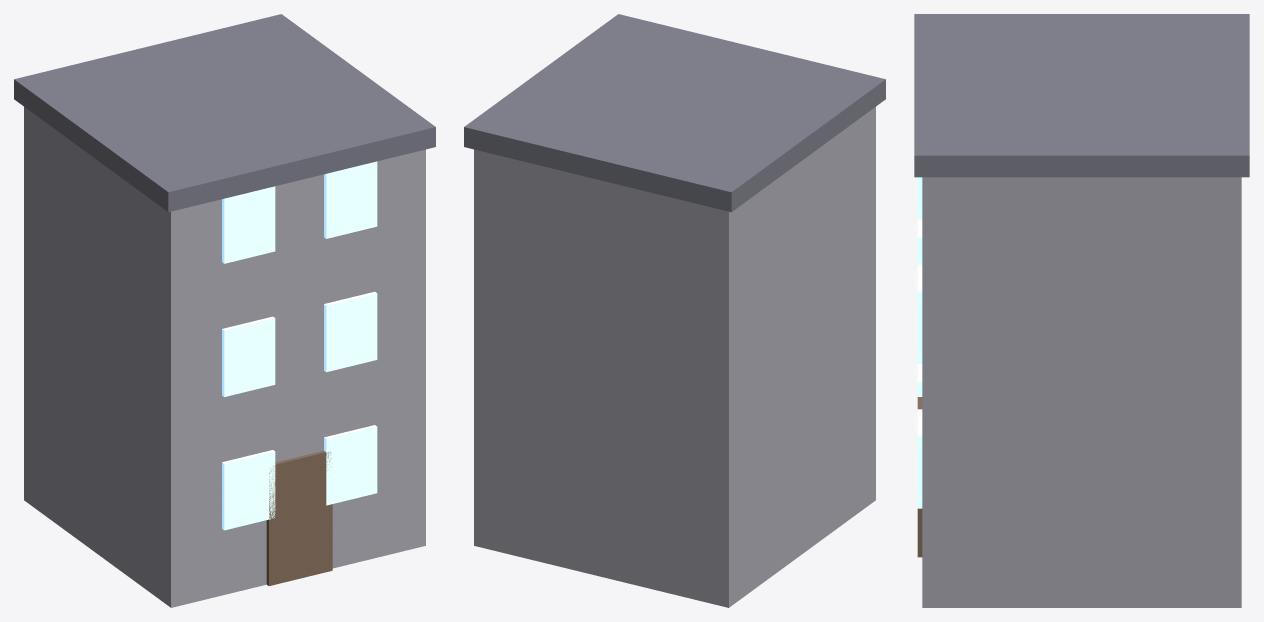
Rendered from building.glb.
The picture shows the model from 3 angles, left to right: view 1: azimuth 30°, elevation 25°; view 2: azimuth 150°, elevation 25°; view 3: azimuth 270°, elevation 25°; orthographic projection. The views are drawn at different scales.
Parts seen in each view (by area): view 1: BuildingBody, Roof, Door, Window_F1_C0, Window_F1_C1, Window_F0_C0, Window_F0_C1, Window_F2_C1, Window_F2_C0; view 2: BuildingBody, Roof; view 3: BuildingBody, Roof, Window_F0_C1, Window_F1_C1.
Boxes of the visible parts, left/top/right/bottom form: BuildingBody: left=24, top=107, right=425, bottom=607; Roof: left=14, top=14, right=435, bottom=212; Door: left=266, top=451, right=332, bottom=585; Window_F1_C0: left=222, top=316, right=275, bottom=396; Window_F1_C1: left=324, top=291, right=377, bottom=372; Window_F0_C0: left=222, top=450, right=275, bottom=530; Window_F0_C1: left=324, top=425, right=377, bottom=505; Window_F2_C1: left=324, top=161, right=377, bottom=238; Window_F2_C0: left=222, top=186, right=275, bottom=263; BuildingBody: left=474, top=107, right=875, bottom=607; Roof: left=464, top=14, right=885, bottom=212; BuildingBody: left=922, top=177, right=1241, bottom=607; Roof: left=914, top=14, right=1249, bottom=177; Window_F0_C1: left=917, top=409, right=922, bottom=508; Window_F1_C1: left=917, top=264, right=922, bottom=363.
Size of the model in its own units: 4.2 by 6.3 by 4.2.
